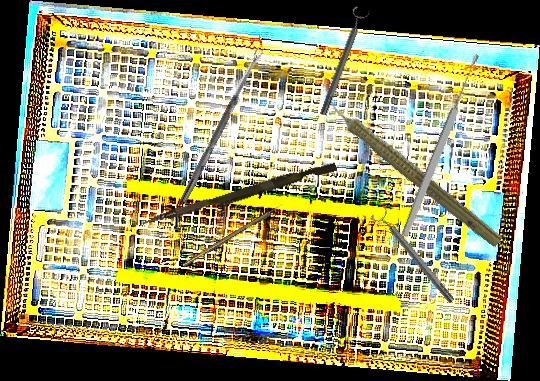Fixation Ring: (370, 205, 459, 308), (313, 5, 372, 118)
Handpiece: (312, 85, 509, 251)
Hook Surgical: (181, 202, 286, 268)
Pusher: (141, 157, 338, 233)
Surgical Spoon: (399, 52, 483, 239), (179, 47, 265, 205)
